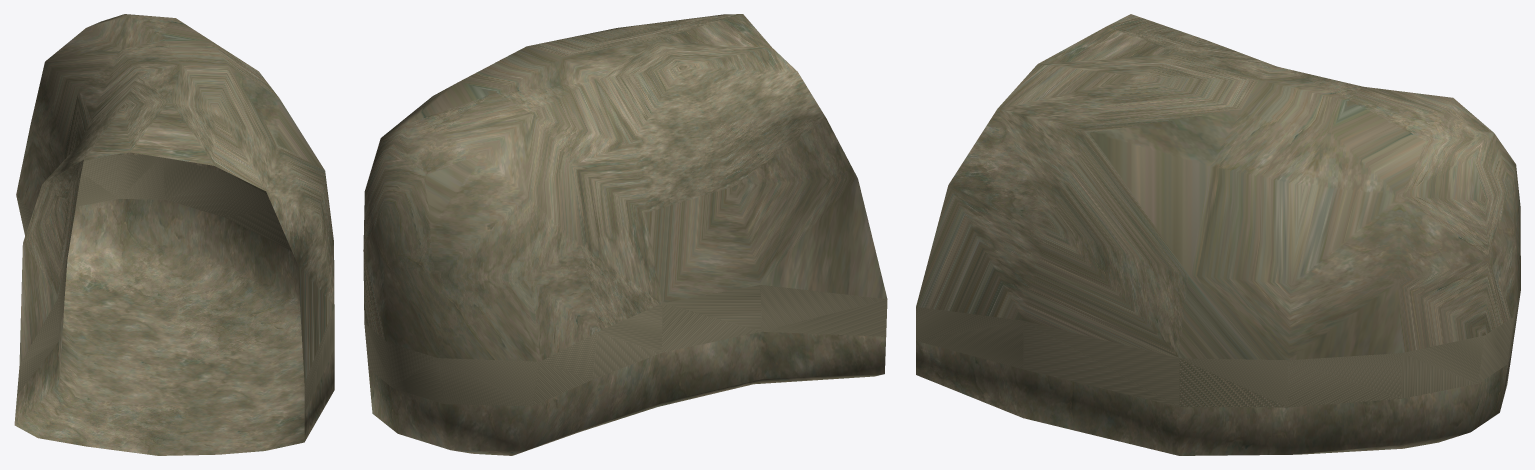
Rendered from OVERHILL_A_01_OBJECT58.fbx.
3 views of the same model, side by side, from view 1: azimuth 30°, elevation 25°; view 2: azimuth 150°, elevation 25°; view 3: azimuth 270°, elevation 25° (orthographic). The views are drawn at different scales.
Visible parts, largest first — view 1: OVERHILL_A_01_OBJECT58; view 2: OVERHILL_A_01_OBJECT58; view 3: OVERHILL_A_01_OBJECT58.
Boxes of the visible parts, box(x1,y1,x2,y2) form: OVERHILL_A_01_OBJECT58: box(14, 14, 334, 455); OVERHILL_A_01_OBJECT58: box(363, 14, 887, 455); OVERHILL_A_01_OBJECT58: box(916, 14, 1520, 455).
Size of the model in its own units: 41420 by 32811 by 53831.
Materials: 1 (1 with a texture image).
